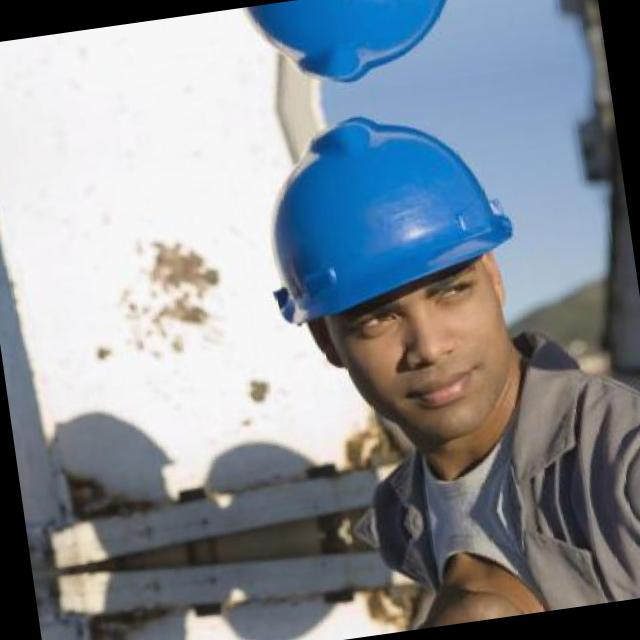helmet: (226, 76, 574, 489), (209, 0, 523, 119)
